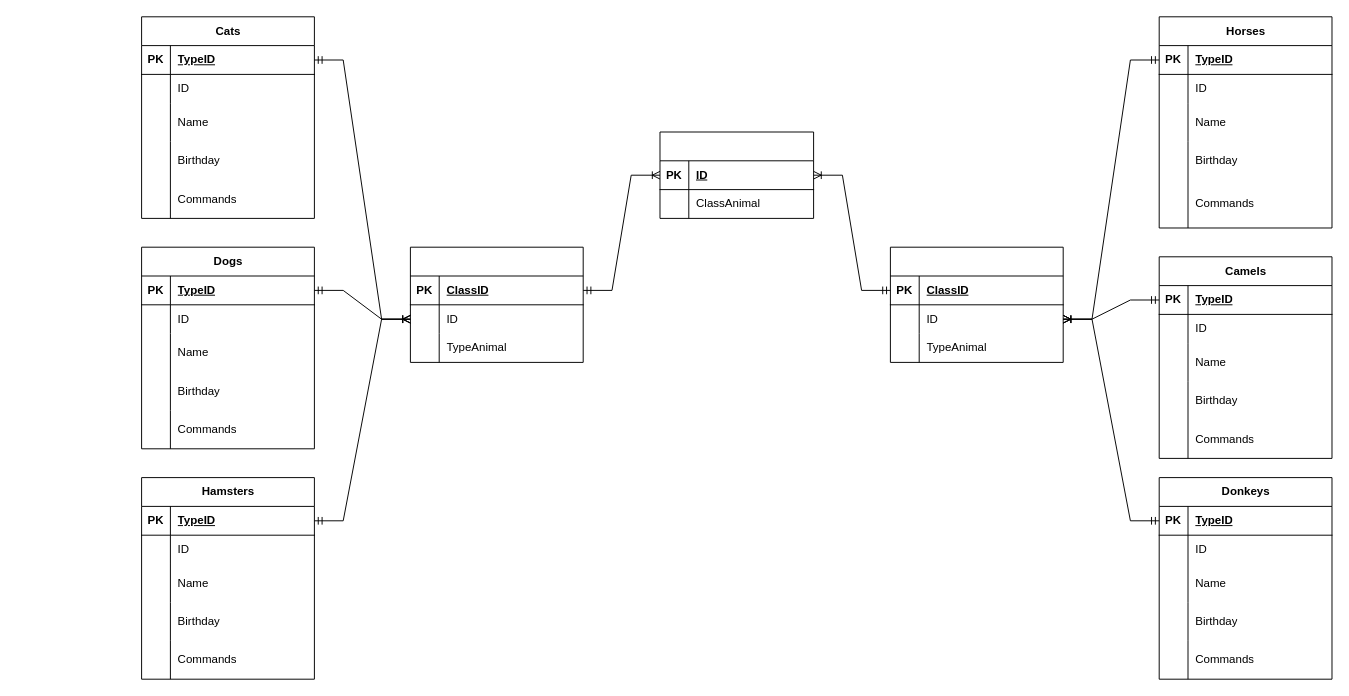
This 1349x696 diagram has some shape labels left out. The shapes that lost their labels are listed below. From the top down, each one's box as (x1, y1, x2, y2) in pixels, then its label:
(659, 131, 814, 218): Animals
(409, 246, 583, 362): Pets
(889, 246, 1063, 362): Pack animals
